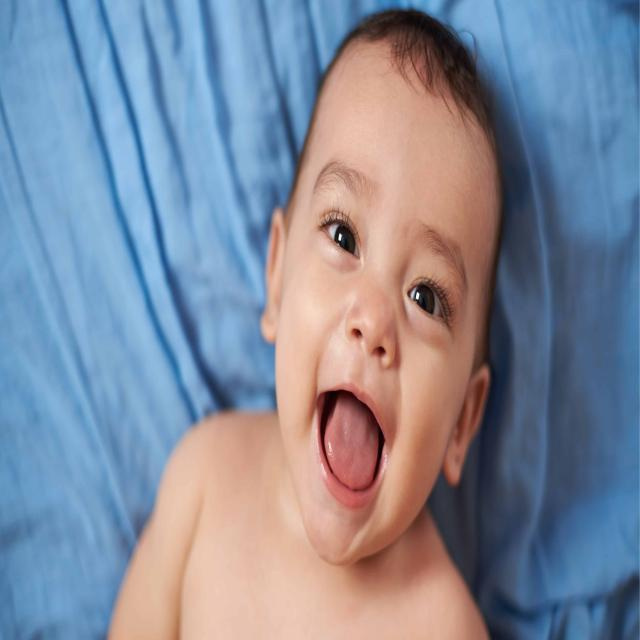non-dog: (105, 9, 504, 640)
